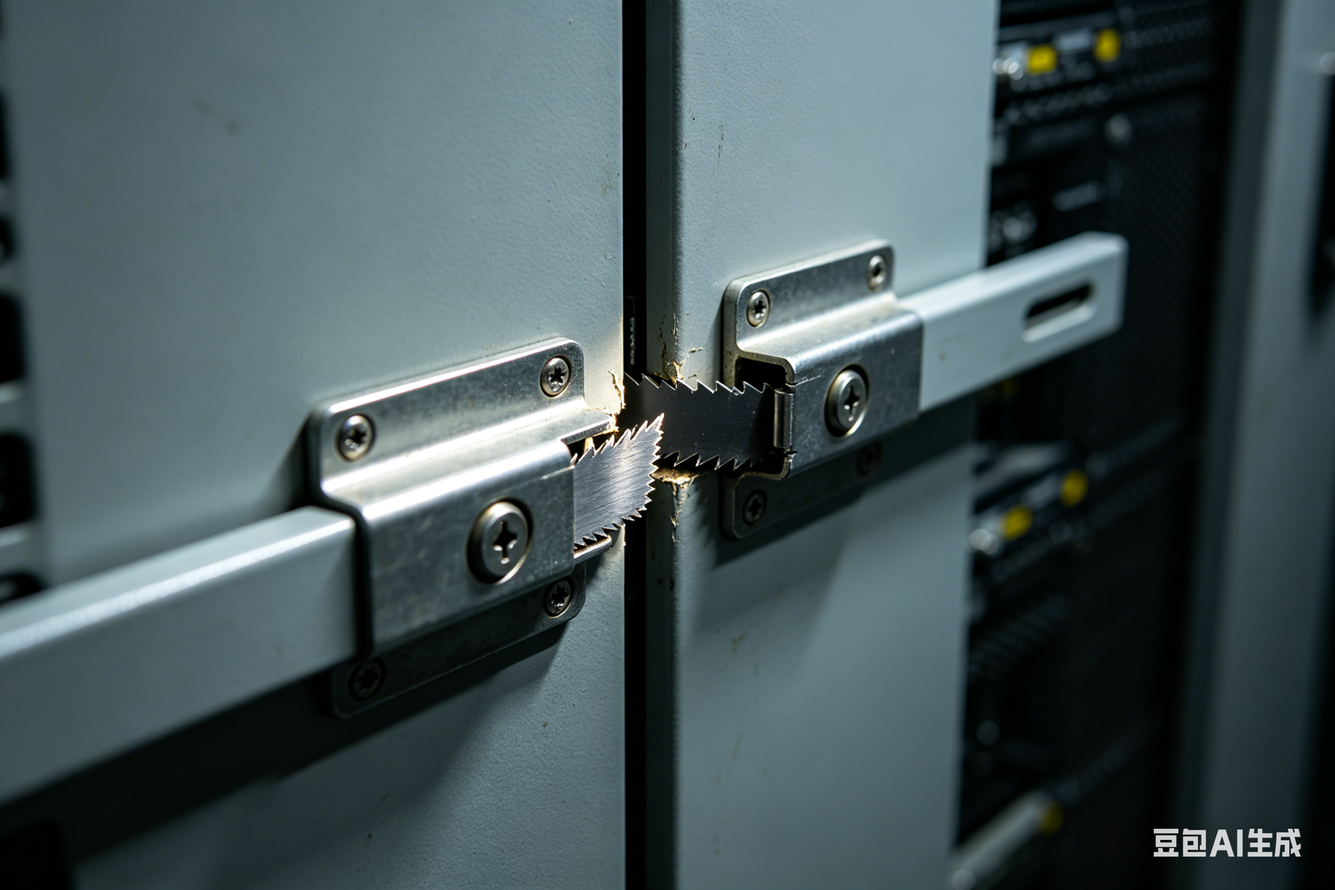BadLock: (545, 379, 814, 534)
